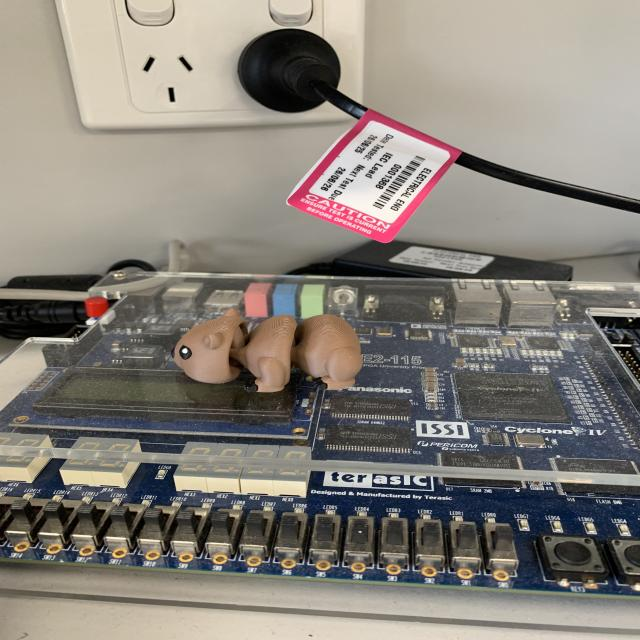wombat: (151, 299, 379, 399)
